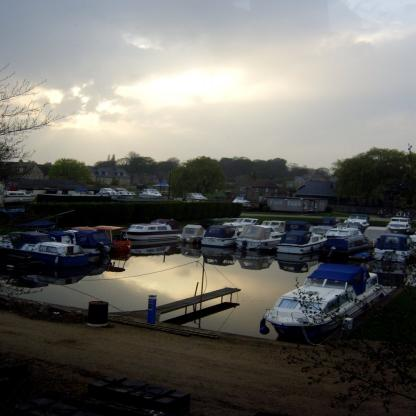Car: (5, 192, 32, 197)
